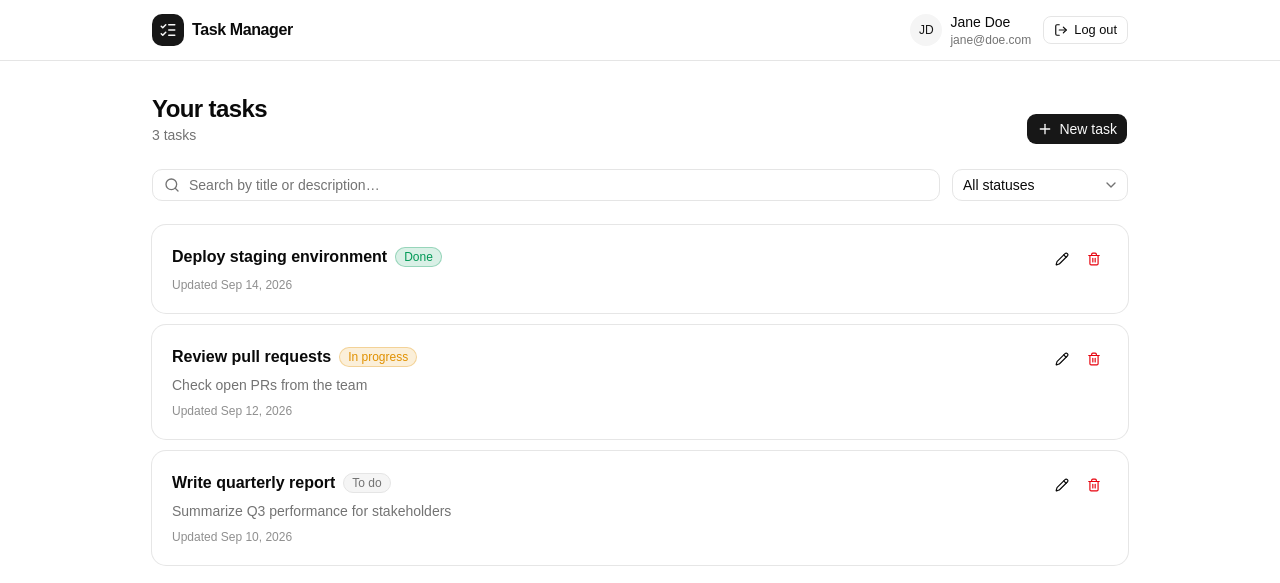
DashboardPage › filters tasks by status
The image size is (1280, 583).
Expected: the heading "Write quarterly report" is shown, 172,471 -> 335,495
What coordinates should you click on to do the following:
click the dropdown named "filter by status"
I would click on:
 (1040, 185)
Its box is 952,169 -> 1128,201.
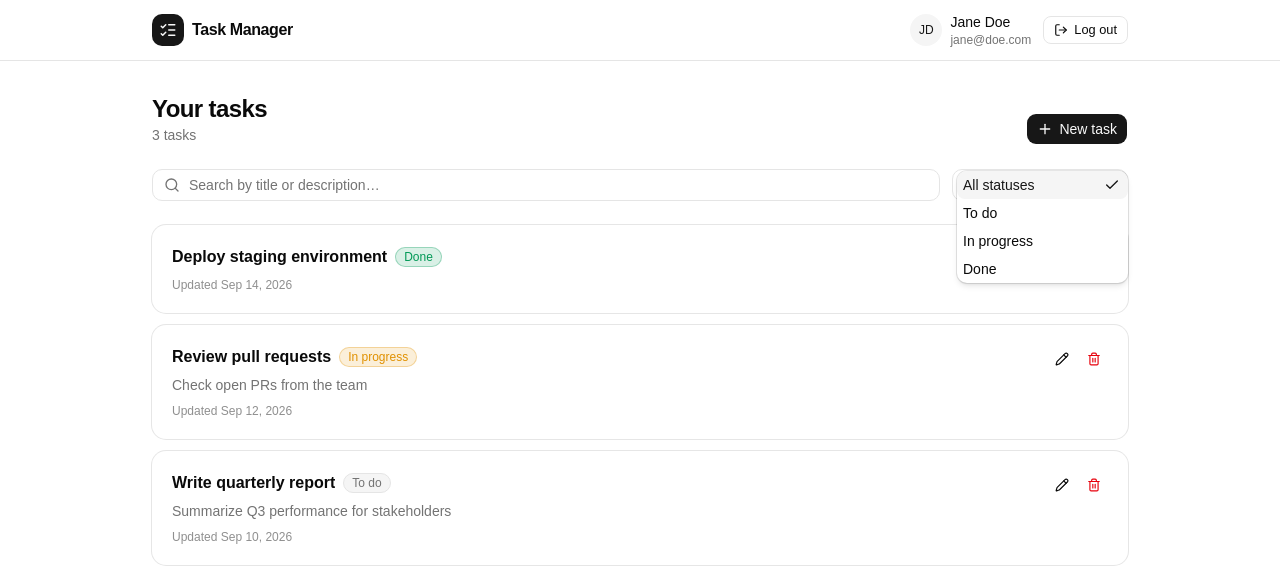
What coordinates should you click on to do the following:
click the option "Done"
I would click on:
 (980, 269)
Its box is 963,261 -> 996,277.
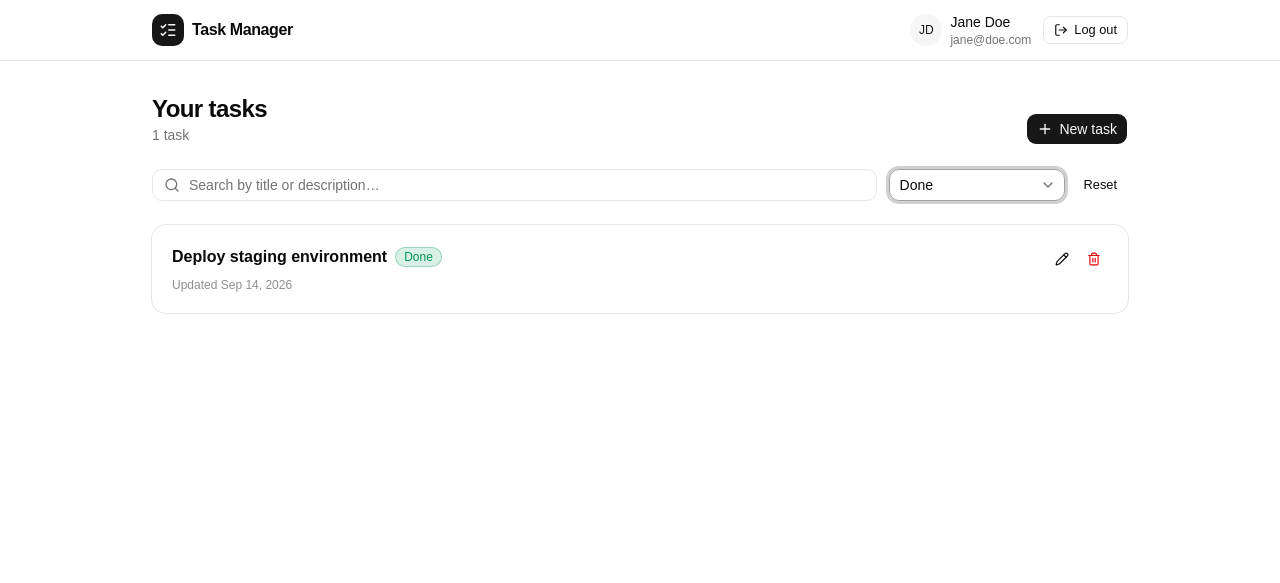
Expected: the heading "Deploy staging environment" is shown, 172,245 -> 387,269
Now the heading "Write quarterly report" is gone
Now the heading "Review pull requests" is gone
